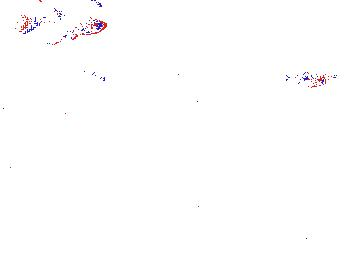redtail glassfish: (22, 11, 107, 47)
